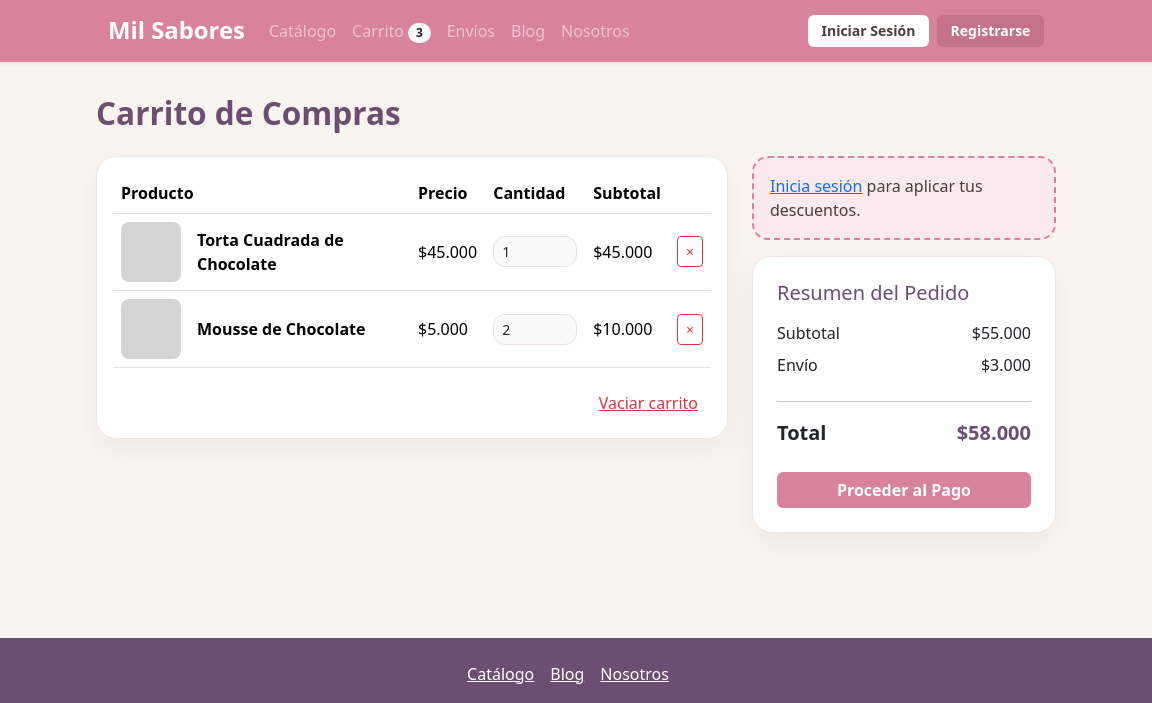
Test: Pruebas unitarias para la pagina de Carrito en Pasteleria_MS › Elimina un producto y recalcula el total
The image size is (1152, 703).
Click the button named "Eliminar producto" at (690, 252), box top-left (677, 236), bottom-right (703, 267)
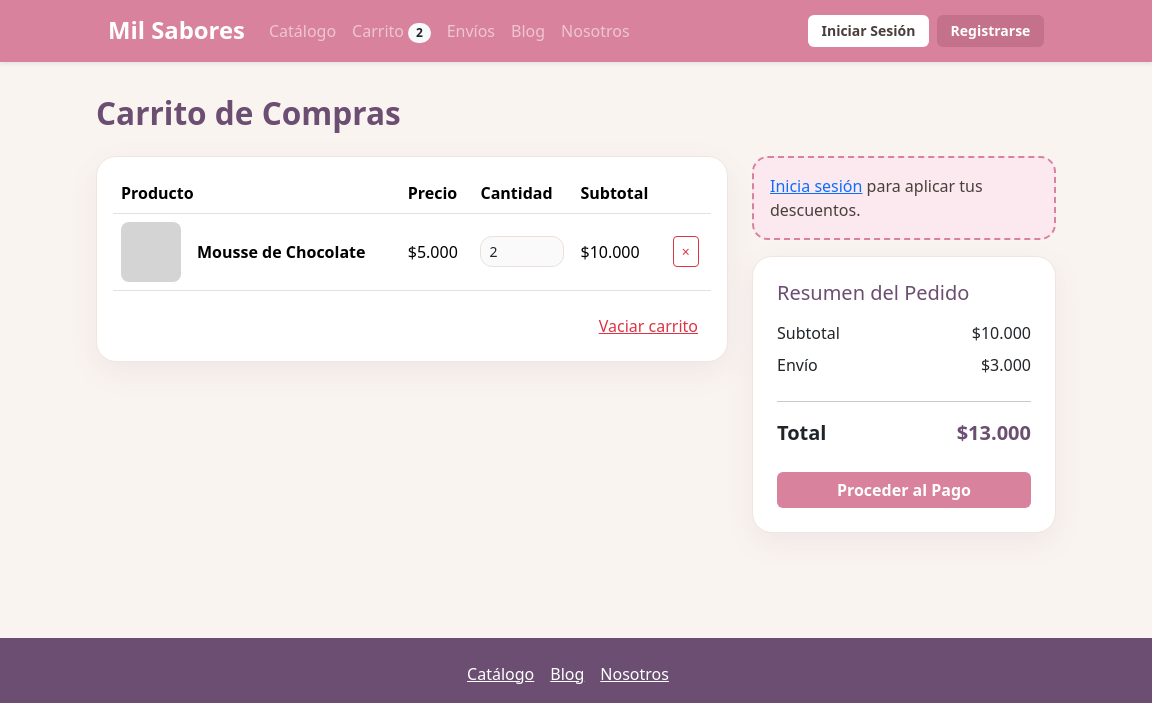
Expected: the text "Torta Cuadrada de Chocolate" is gone
Expected: the text with test id "total-carrito" reads "$13.000", top-left (957, 418), bottom-right (1031, 448)
